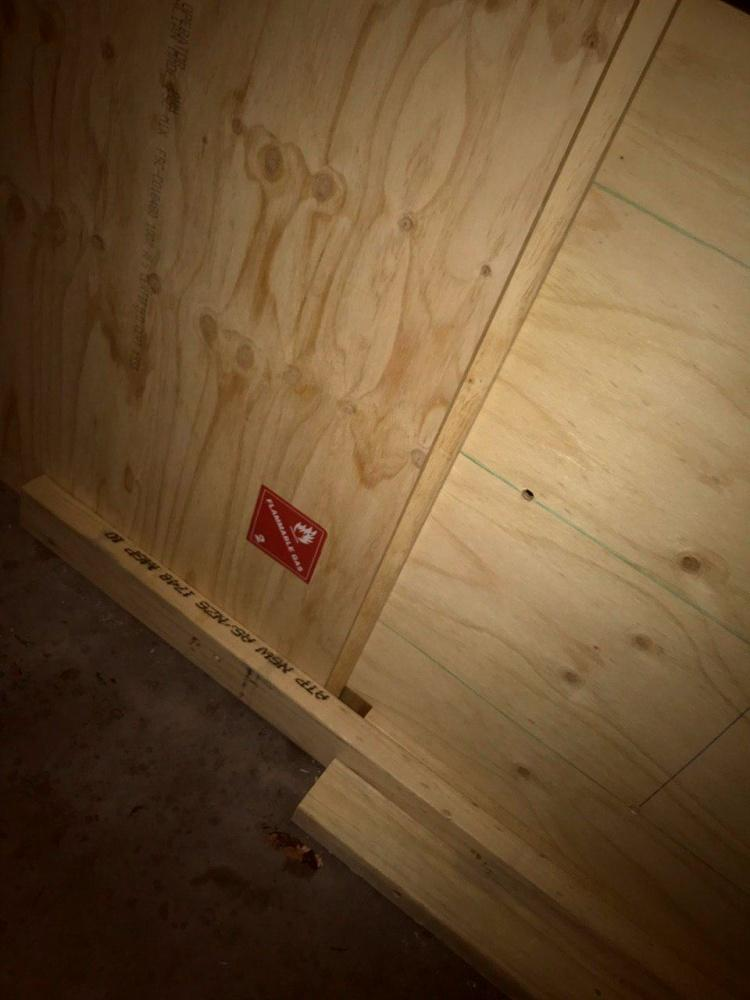flammable: (243, 486, 330, 587)
